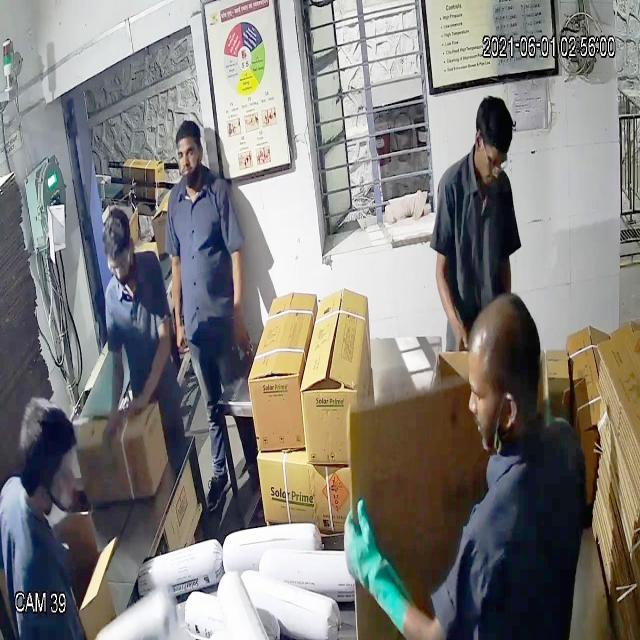glasses: (476, 135, 514, 179)
